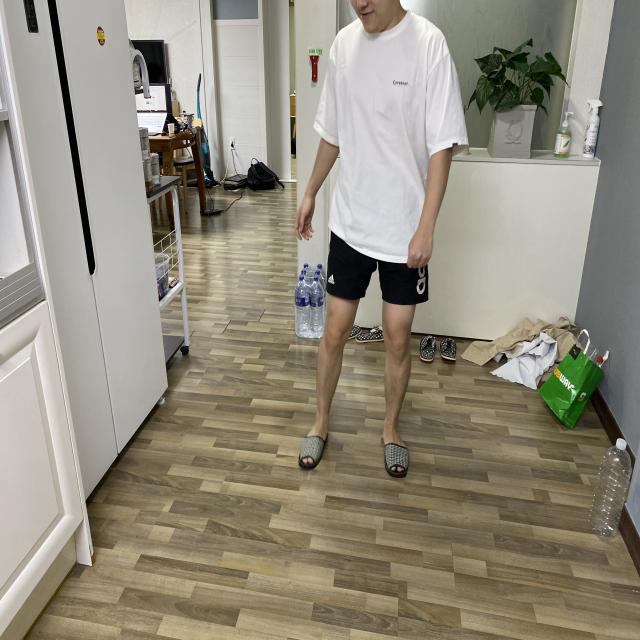no-boots: (368, 419, 415, 486), (294, 418, 339, 482)
